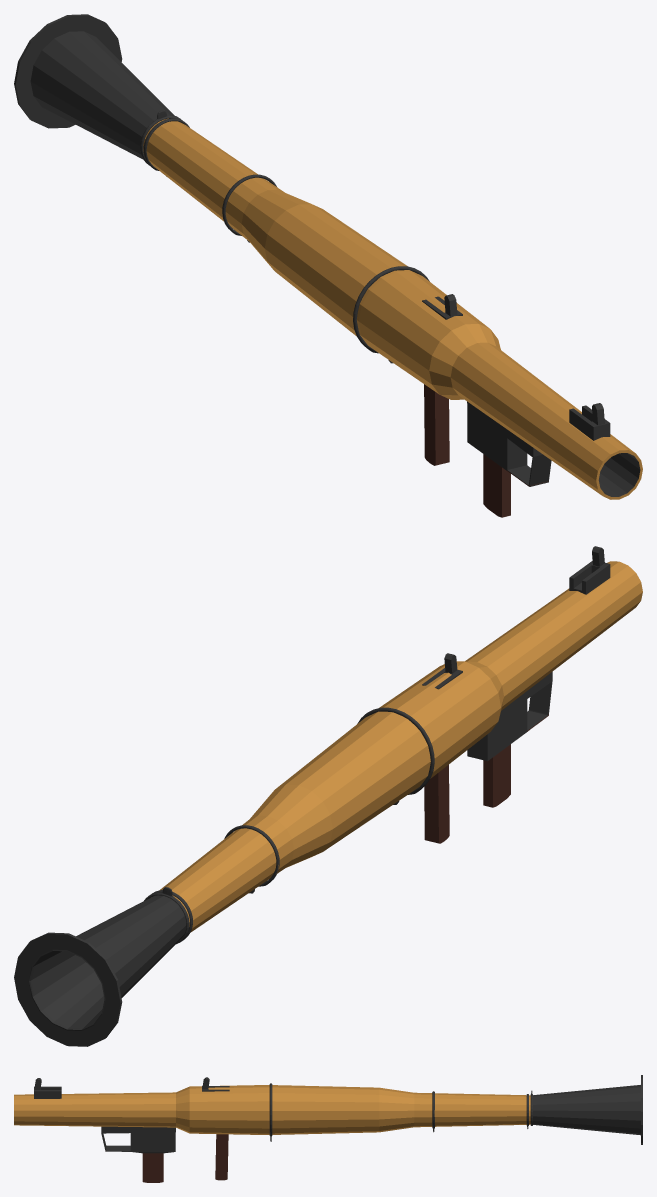
The model's file is rpg_tube_v2.fbx.
3 views of the same model, one above another, from view 1: azimuth 30°, elevation 25°; view 2: azimuth 150°, elevation 25°; view 3: azimuth 270°, elevation 25° (orthographic). The views are drawn at different scales.
Visible parts, largest first — view 1: tube; view 2: tube; view 3: tube.
Boxes of the visible parts, <box> form: tube: <box>14,14,642,517</box>; tube: <box>14,546,642,1046</box>; tube: <box>14,1075,642,1182</box>.
Size of the model in its own units: 53.6 by 87.25 by 481.
